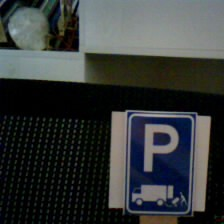load: (114, 106, 205, 219)
